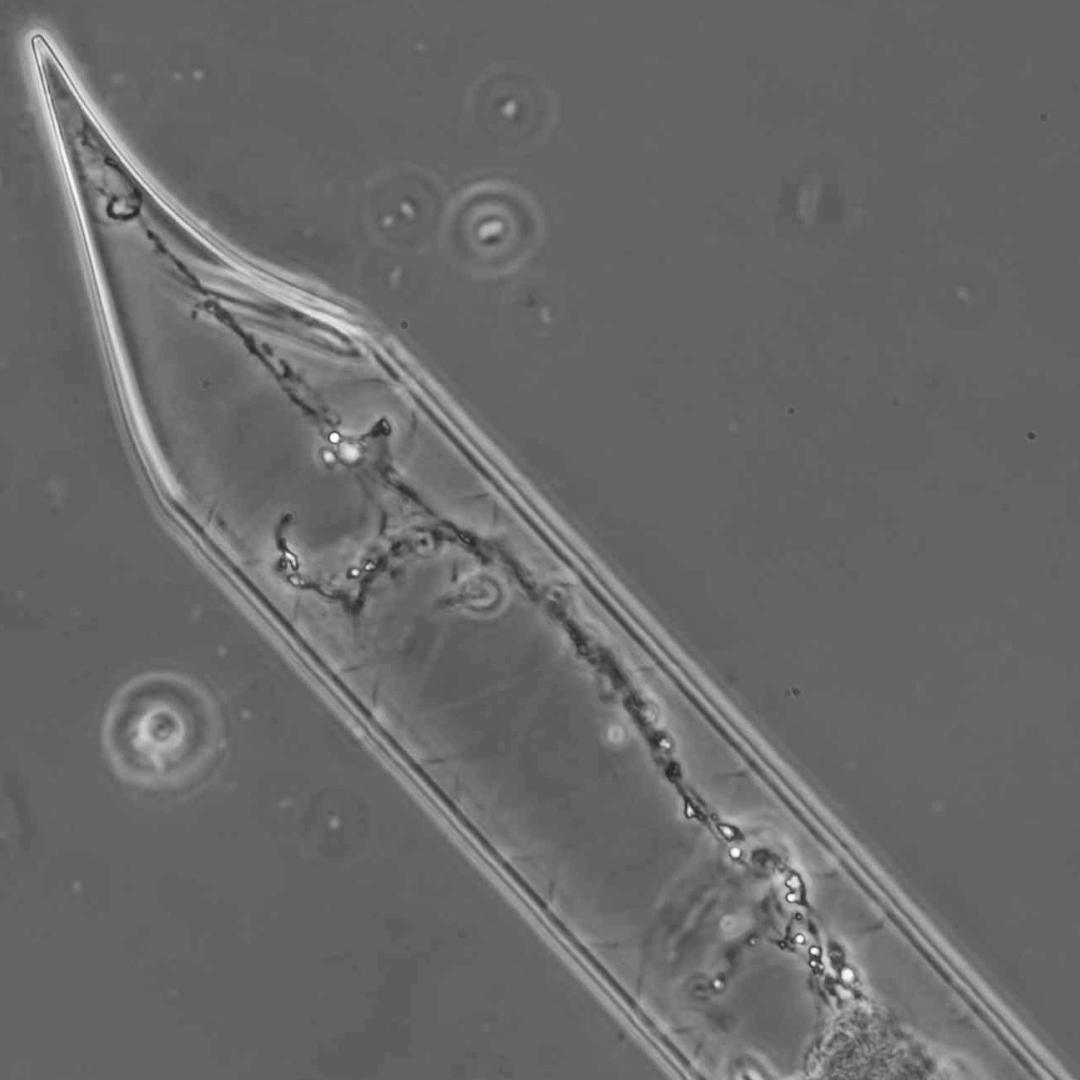proboscia_alata: (32, 35, 1058, 1079)
